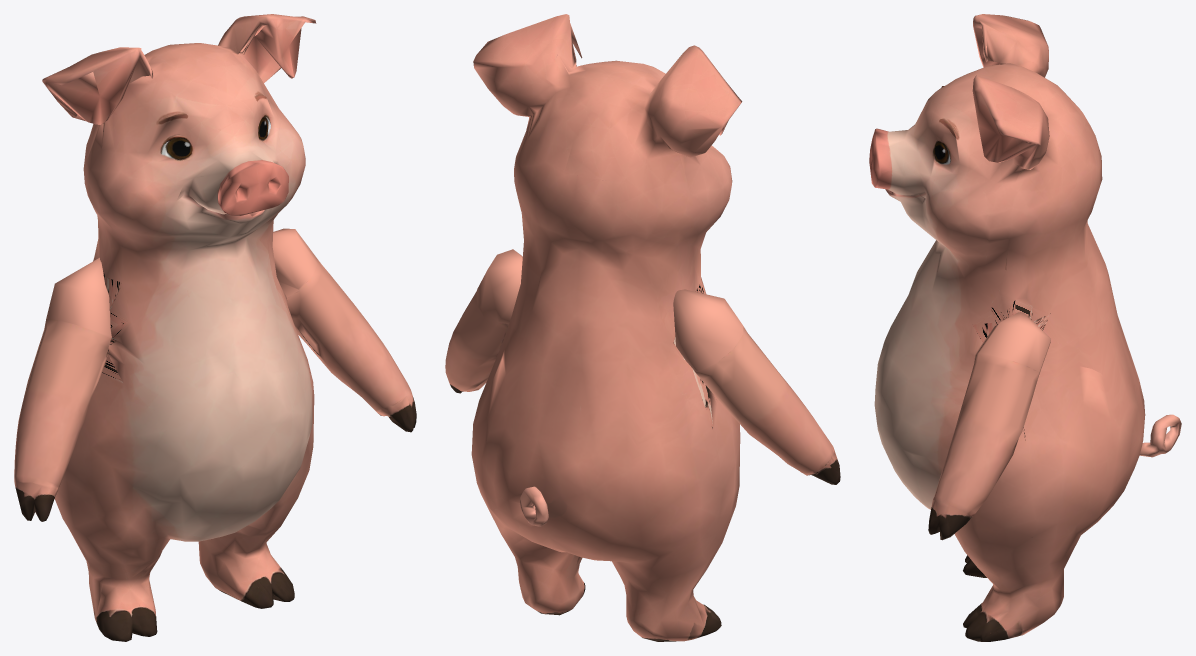
File: pig-root-pit.glb
3 views of the same model, side by side, from view 1: azimuth 30°, elevation 25°; view 2: azimuth 150°, elevation 25°; view 3: azimuth 270°, elevation 25° (orthographic). The views are drawn at different scales.
Visible parts, largest first — view 1: pigedit; view 2: pigedit; view 3: pigedit.
Part boxes in pixels (<box>): pigedit: <box>14,14,416,641</box>; pigedit: <box>445,14,840,641</box>; pigedit: <box>869,14,1181,641</box>.
Bounding box in the file's own units: 1.34 × 1.9 × 0.9729.
Materials: 1 (1 with a texture image).
